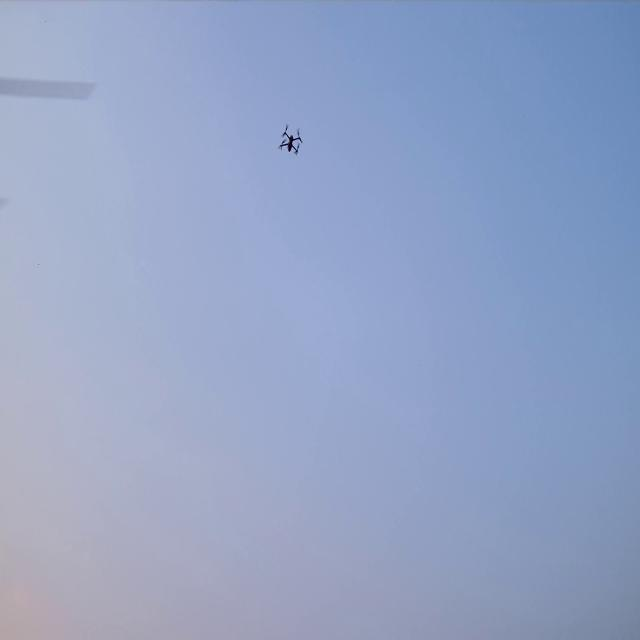UAV: (277, 123, 304, 154)
